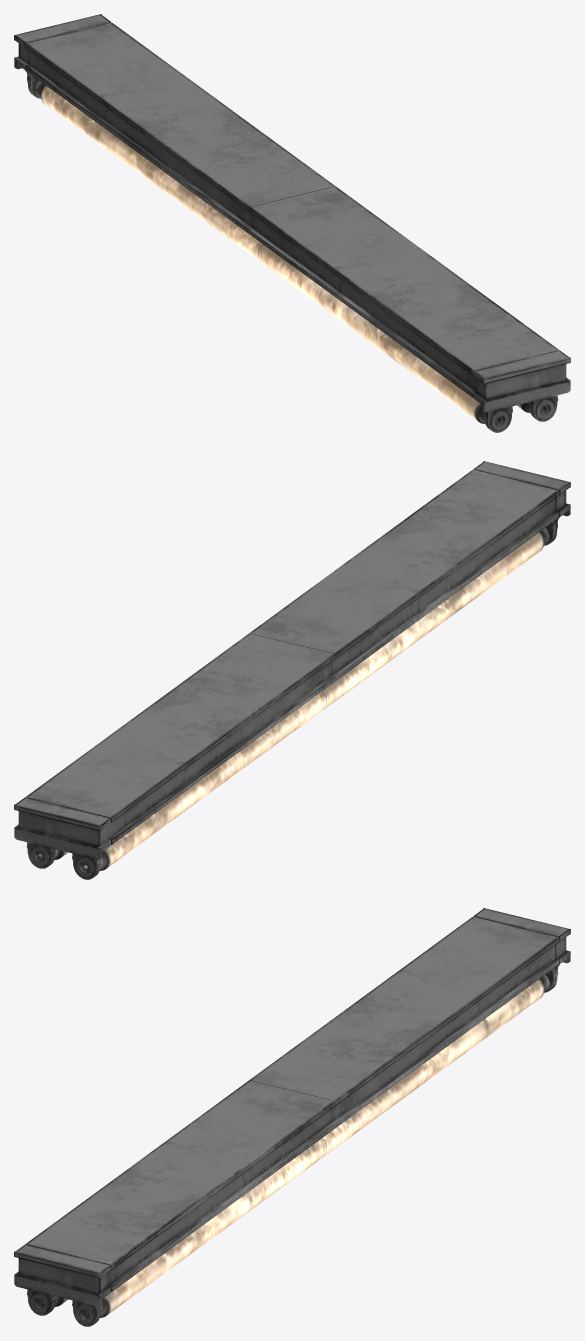
Rendered from fluorescent_lamp.glb.
3 views of the same model, one above another, from view 1: azimuth 30°, elevation 25°; view 2: azimuth 150°, elevation 25°; view 3: azimuth 330°, elevation 25° (orthographic).
Parts seen in each view (by area): view 1: Fluorescent_Light _Fluorescent_Light_MTL_0; view 2: Fluorescent_Light _Fluorescent_Light_MTL_0; view 3: Fluorescent_Light _Fluorescent_Light_MTL_0.
Part boxes in pixels (x1,y1,x2,y2): Fluorescent_Light _Fluorescent_Light_MTL_0: (14, 14, 570, 432); Fluorescent_Light _Fluorescent_Light_MTL_0: (14, 461, 570, 879); Fluorescent_Light _Fluorescent_Light_MTL_0: (14, 908, 570, 1326).
Size of the model in its own units: 0.1284 by 0.088 by 1.2.
Materials: 1 (1 with a texture image).
